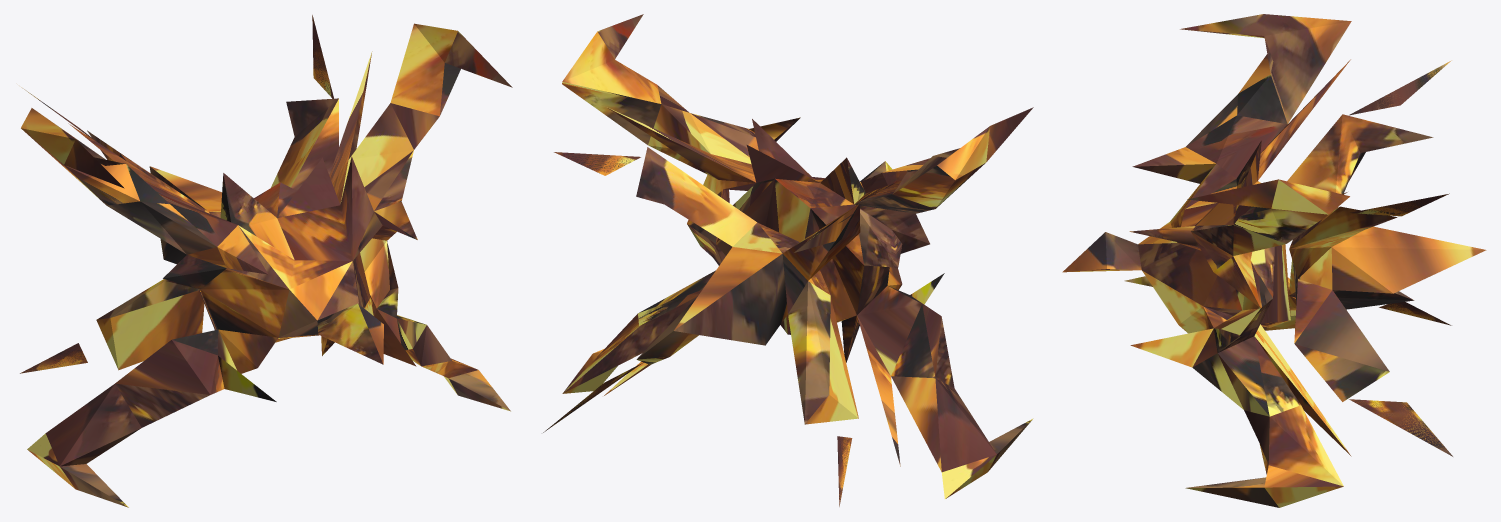
3 renders of one model, left to right at view 1: azimuth 30°, elevation 25°; view 2: azimuth 150°, elevation 25°; view 3: azimuth 270°, elevation 25°, orthographic. The views are drawn at different scales.
Parts seen in each view (by area): view 1: ai_model; view 2: ai_model; view 3: ai_model.
Boxes of the visible parts, left/top/right/bottom form: ai_model: left=20, top=15, right=512, bottom=507; ai_model: left=543, top=14, right=1033, bottom=506; ai_model: left=1062, top=14, right=1486, bottom=507.
Bounding box in the file's own units: 0.9672 × 0.8131 × 0.9524.
